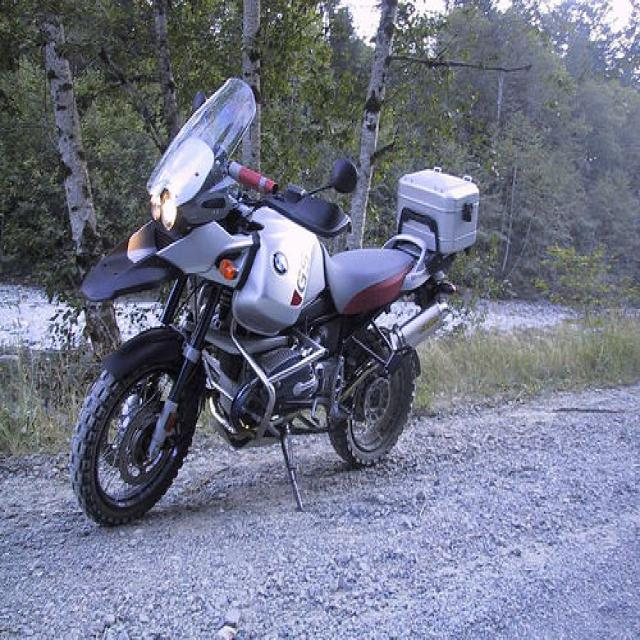motorcycle: (72, 79, 472, 529)
